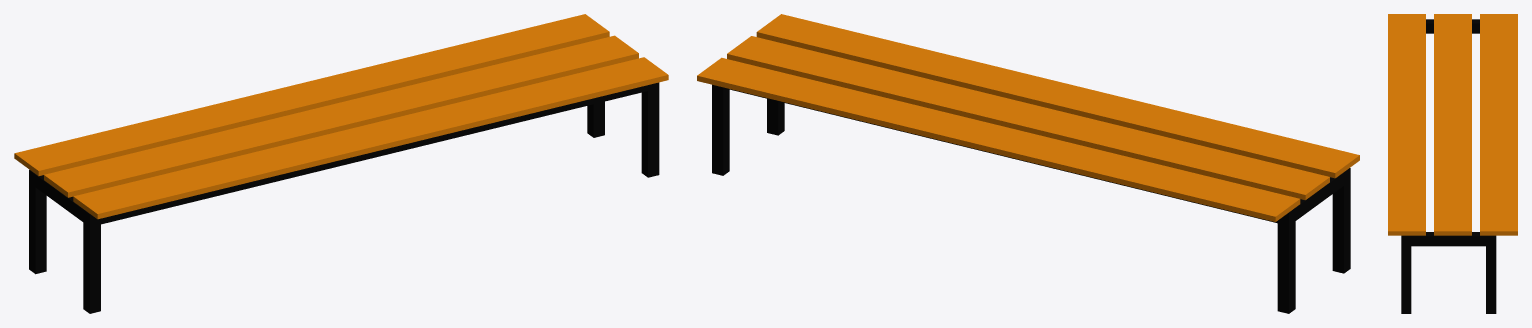
The model's file is busshelterbench.fbx.
3 views of the same model, side by side, from view 1: azimuth 30°, elevation 25°; view 2: azimuth 150°, elevation 25°; view 3: azimuth 270°, elevation 25° (orthographic). The views are drawn at different scales.
Parts seen in each view (by area): view 1: busshelterbench; view 2: busshelterbench; view 3: busshelterbench.
Part boxes in pixels (<box>): busshelterbench: <box>14,14,668,313</box>; busshelterbench: <box>697,14,1359,313</box>; busshelterbench: <box>1388,14,1517,313</box>.
Size of the model in its own units: 172 by 30.59 by 43.4.
